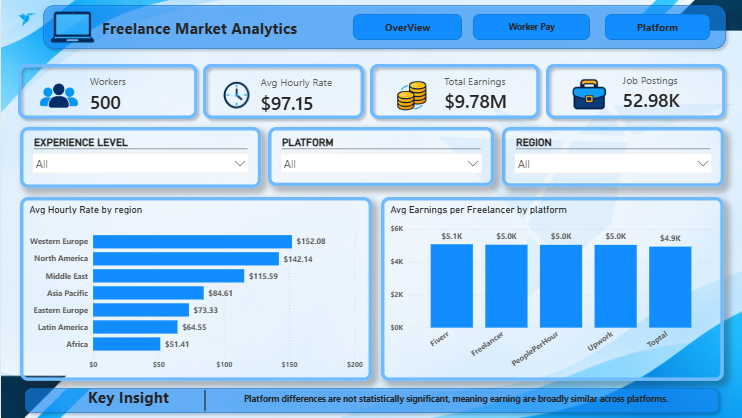

What the dashboard file says about the page in this screenshot:
{"tool":"powerbi","page":{"name":"Overview","canvas":[1280,720],"ordinal":0},"visuals":[{"type":"image","box":[0,0,89.7,63.8],"z":0},{"type":"cardVisual","fields":{"Data":["_Measures.Workers"]},"box":[0,81,369,153.4],"z":1},{"type":"cardVisual","fields":{"Data":["_Measures.Avg Hourly Rate"]},"box":[319,81,336.2,153.4],"z":2},{"type":"cardVisual","fields":{"Data":["_Measures.Total Earnings"]},"box":[606.9,81,351.7,153.4],"z":3},{"type":"cardVisual","fields":{"Data":["_Measures.Job Postings"]},"box":[910.3,81,369,153.4],"z":4},{"type":"slicer","fields":{"Values":["workers.region"]},"box":[863.8,219,382.8,103.4],"z":7},{"type":"slicer","fields":{"Values":["workers.experience_level"]},"box":[32.8,219,415.5,105.2],"z":8},{"type":"slicer","fields":{"Values":["dim_platform.platform"]},"box":[460.3,219,389.7,101.7],"z":9},{"type":"shape","box":[63.8,0,1194.8,93.1],"z":10},{"type":"image","box":[44.8,12.1,156.9,69],"z":12},{"type":"barChart","fields":{"Y":["_Measures.Avg Hourly Rate"],"Category":["workers.region"]},"box":[32.8,339.7,606.9,317.2],"z":13},{"type":"columnChart","fields":{"Category":["dim_platform.platform"],"Y":["_Measures.Avg Earnings per Freelancer"]},"box":[655.2,339.7,591.4,317.2],"z":14},{"type":"shape","box":[32.8,660.3,1213.8,60.3],"z":15},{"type":"textbox","box":[144.8,660.3,174.1,60.3],"z":16},{"type":"shape","box":[201.7,672.4,300,36.2],"z":17},{"type":"textbox","box":[413.8,672.4,832.8,36.2],"z":18},{"type":"textbox","box":[169,24.1,406.9,69],"z":19},{"type":"shape","box":[606.9,24.1,187.9,44.8],"z":20},{"type":"shape","box":[813.8,24.1,201.7,44.8],"z":21},{"type":"shape","box":[1041.4,24.1,181,44.8],"z":22}]}

Visuals, with their boxes in screenshot pixels (x1, y1, x2, y2), scaled from the page's 1280x720 canvas onto the 742x418 screenshot:
image: BBox(0, 0, 52, 37)
cardVisual - _Measures.Workers: BBox(0, 47, 214, 136)
cardVisual - _Measures.Avg Hourly Rate: BBox(185, 47, 380, 136)
cardVisual - _Measures.Total Earnings: BBox(352, 47, 556, 136)
cardVisual - _Measures.Job Postings: BBox(528, 47, 741, 136)
slicer - workers.region: BBox(501, 127, 723, 187)
slicer - workers.experience_level: BBox(19, 127, 260, 188)
slicer - dim_platform.platform: BBox(267, 127, 493, 186)
shape: BBox(37, 0, 730, 54)
image: BBox(26, 7, 117, 47)
barChart - _Measures.Avg Hourly Rate x workers.region: BBox(19, 197, 371, 381)
columnChart - dim_platform.platform x _Measures.Avg Earnings per Freelancer: BBox(380, 197, 723, 381)
shape: BBox(19, 383, 723, 417)
textbox: BBox(84, 383, 185, 417)
shape: BBox(117, 390, 291, 411)
textbox: BBox(240, 390, 723, 411)
textbox: BBox(98, 14, 334, 54)
shape: BBox(352, 14, 461, 40)
shape: BBox(472, 14, 589, 40)
shape: BBox(604, 14, 709, 40)
